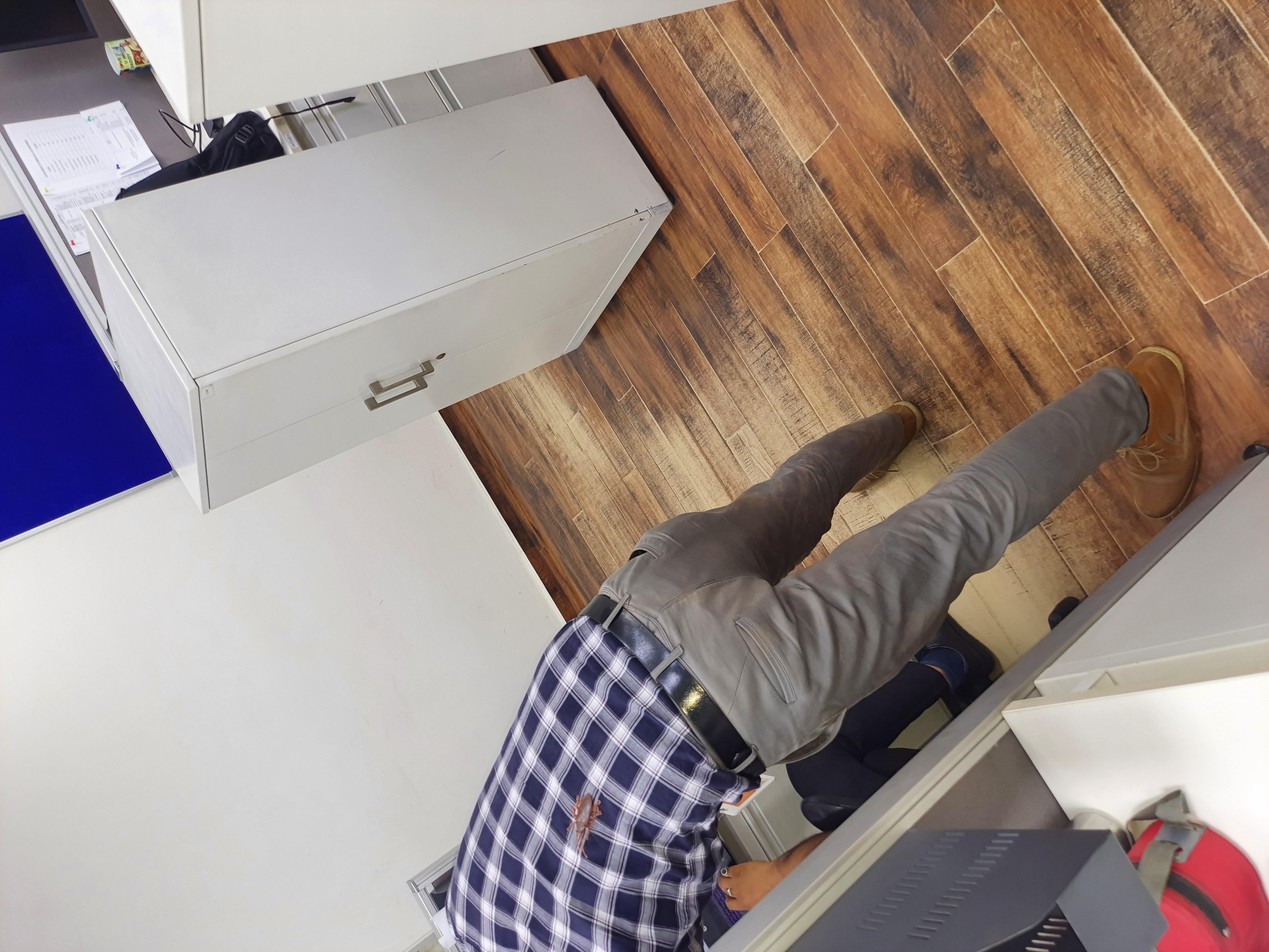cockroach: (130, 405, 229, 475)
